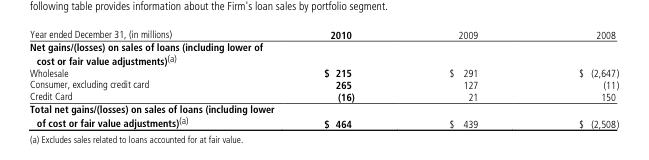table: (28, 28, 618, 128)
table column: (28, 28, 298, 128), (401, 28, 527, 128), (298, 28, 401, 128), (527, 28, 618, 128)
table column header: (28, 28, 618, 40)
table projected row header: (28, 40, 618, 66)
table row: (28, 40, 618, 66), (28, 103, 618, 128), (28, 90, 618, 103), (28, 28, 618, 40), (28, 66, 618, 78), (28, 78, 618, 90)
